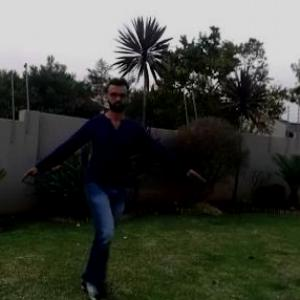land: (42, 87, 172, 247)
